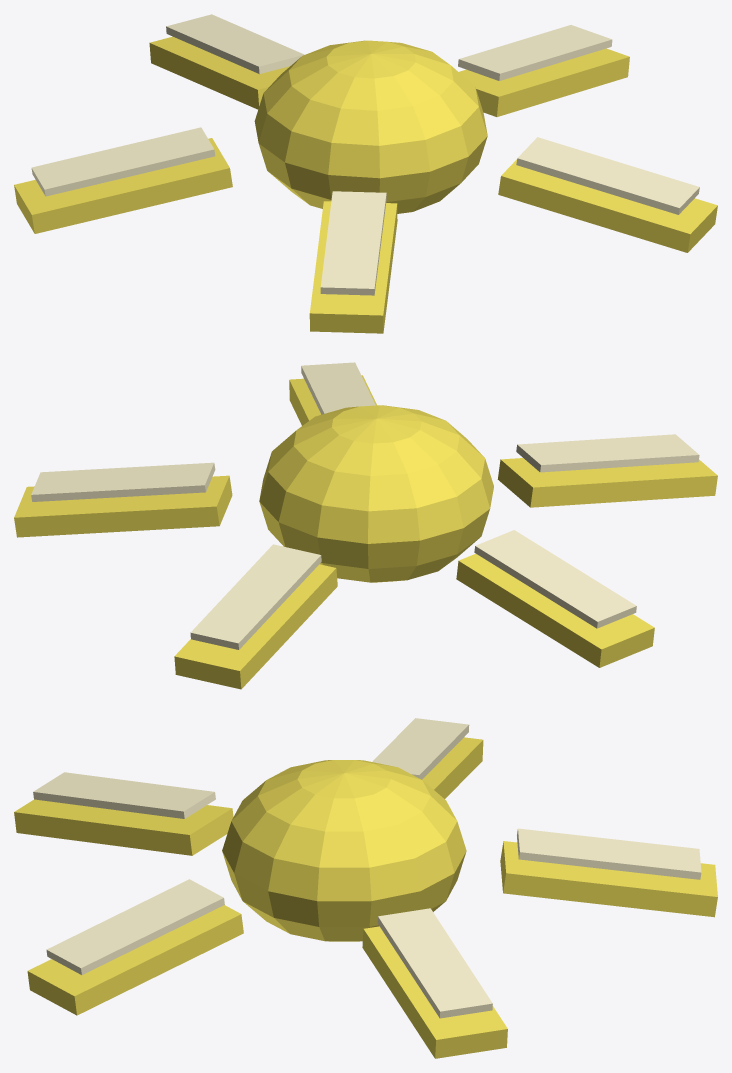
Rendered from banana_peel.glb.
3 views of the same model, one above another, from view 1: azimuth 30°, elevation 25°; view 2: azimuth 150°, elevation 25°; view 3: azimuth 270°, elevation 25° (orthographic). The views are drawn at different scales.
Parts seen in each view (by area): view 1: banana_peel; view 2: banana_peel; view 3: banana_peel.
Boxes of the visible parts, box(x1,y1,x2,y2) form: banana_peel: box(14, 14, 717, 333); banana_peel: box(14, 362, 717, 689); banana_peel: box(14, 718, 717, 1058).
Size of the model in its own units: 0.718 by 0.168 by 0.6908.
